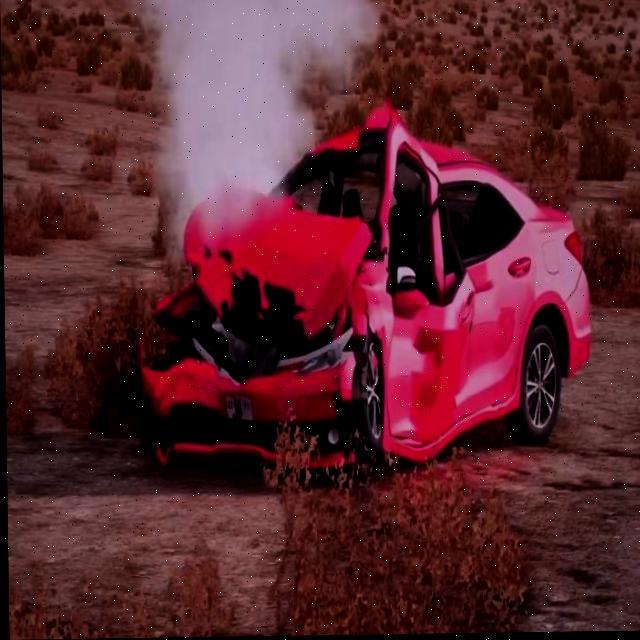single accident: (19, 5, 633, 559)
